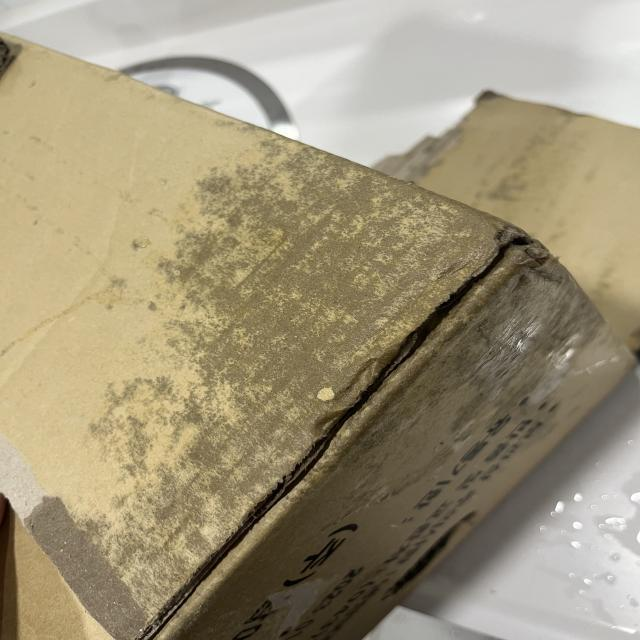wet: (152, 168, 579, 511)
